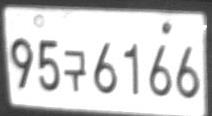1: (122, 43, 145, 94)
5: (38, 39, 60, 91)
6: (175, 46, 199, 98), (93, 42, 117, 93), (148, 45, 171, 95)
9: (10, 36, 33, 88)
구: (64, 50, 86, 91)
